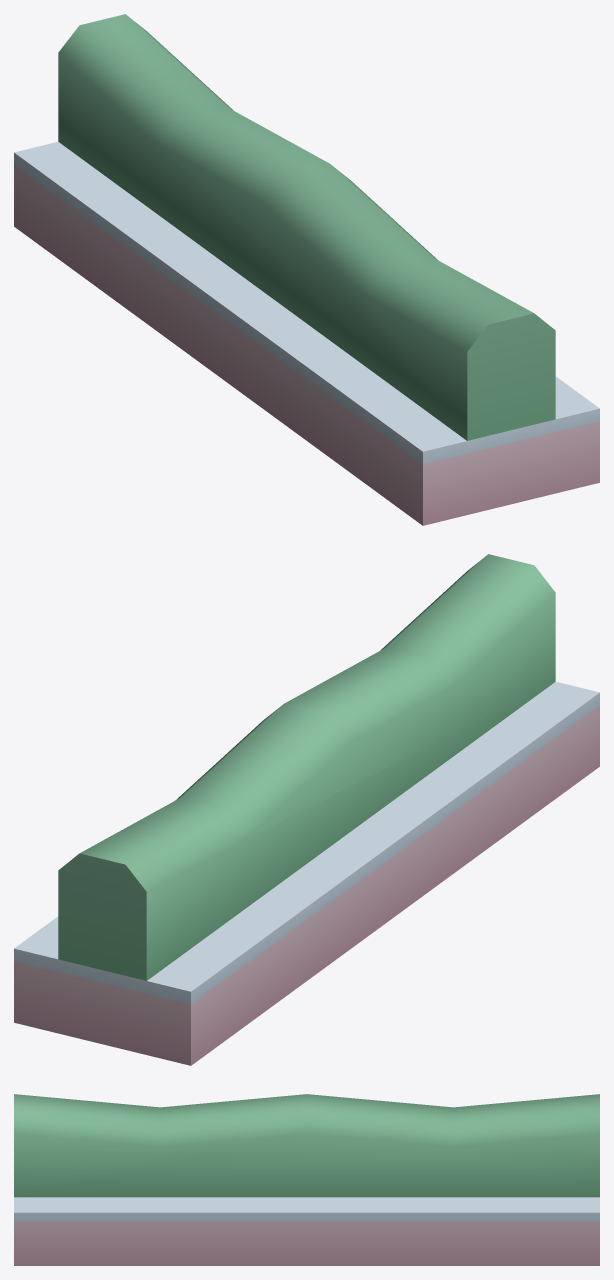
File: hedge.obj
3 views of the same model, one above another, from view 1: azimuth 30°, elevation 25°; view 2: azimuth 150°, elevation 25°; view 3: azimuth 270°, elevation 25° (orthographic). The views are drawn at different scales.
Visible parts, largest first — view 1: hedge; view 2: hedge; view 3: hedge.
Boxes of the visible parts, left/top/right/bottom form: hedge: left=14, top=14, right=599, bottom=525; hedge: left=14, top=554, right=599, bottom=1065; hedge: left=14, top=1094, right=599, bottom=1265.
Bounding box in the file's own units: 1.77 × 1.77 × 7.07.
Materials: 1 (1 with a texture image).
